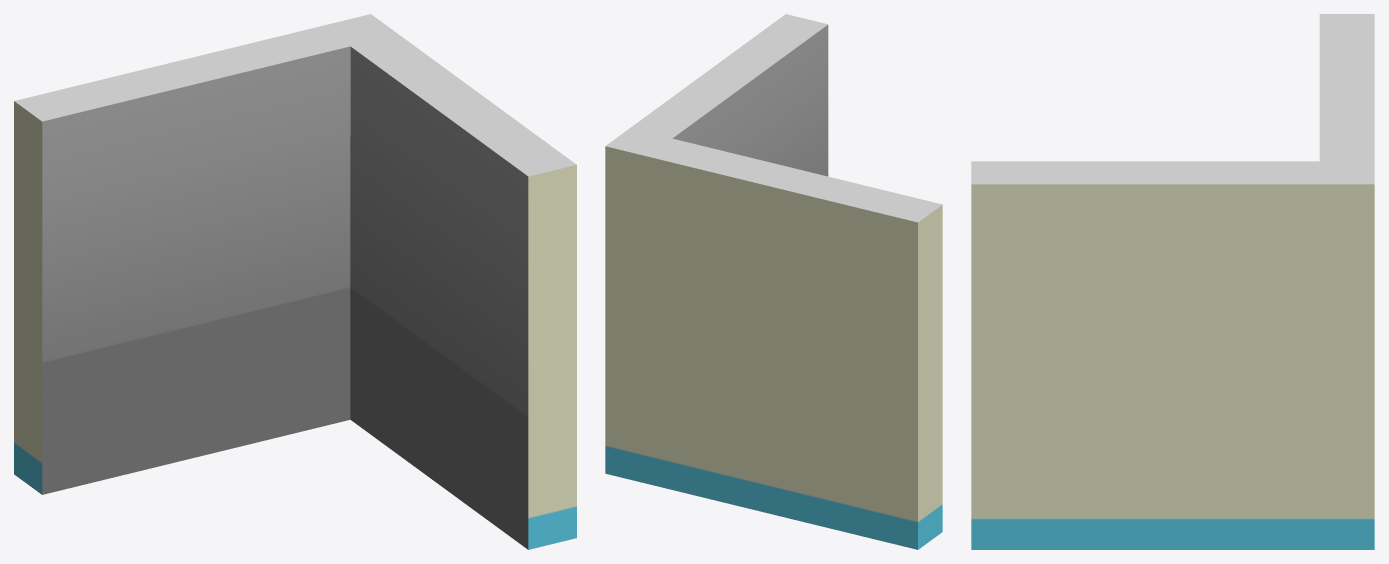
File: Wall_Small_M.fbx
3 views of the same model, side by side, from view 1: azimuth 30°, elevation 25°; view 2: azimuth 150°, elevation 25°; view 3: azimuth 270°, elevation 25° (orthographic). The views are drawn at different scales.
Parts seen in each view (by area): view 1: Wall_Small_M; view 2: Wall_Small_M; view 3: Wall_Small_M.
Part boxes in pixels (x1,y1,x2,y2): Wall_Small_M: (14,14,576,549); Wall_Small_M: (605,14,942,549); Wall_Small_M: (971,14,1374,549).
Bounding box in the file's own units: 100 × 100 × 100.
